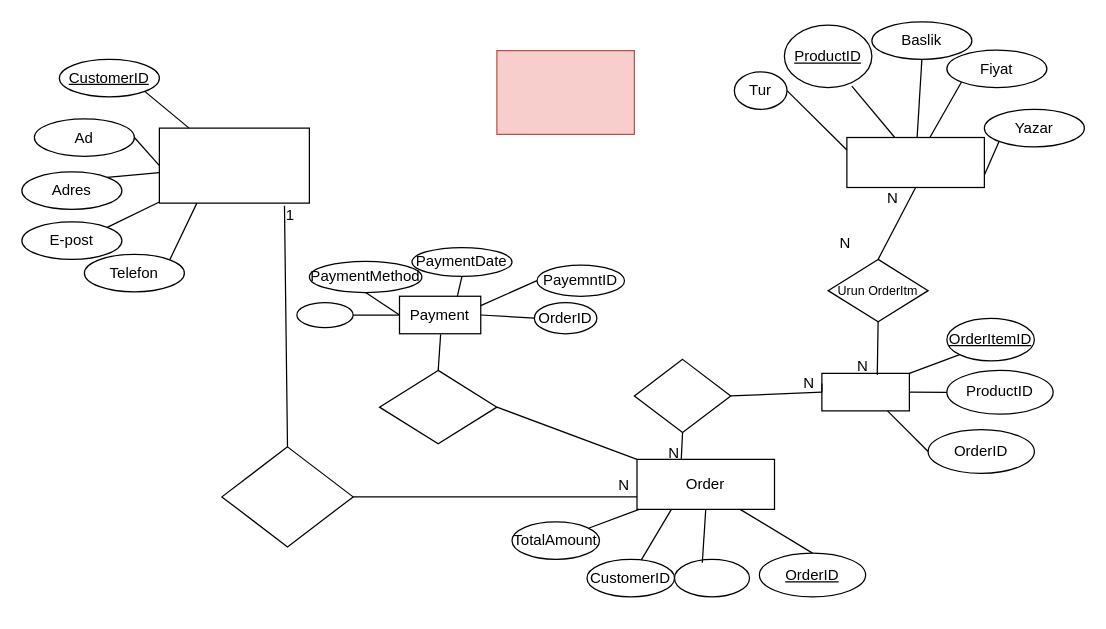
Image size: 1106x629. Some labels were removed from this diagram. The centre of each missing label's shape, as x and y in pixels:
Amount: point (324, 314)
Musteri: point (233, 165)
Musteri Order: point (287, 496)
OrderDate: point (711, 577)
OrderItem: point (865, 391)
Oreder orderItem: point (682, 395)
Payment Order: point (437, 406)
Soru4: point (565, 91)
Urun: point (915, 162)
